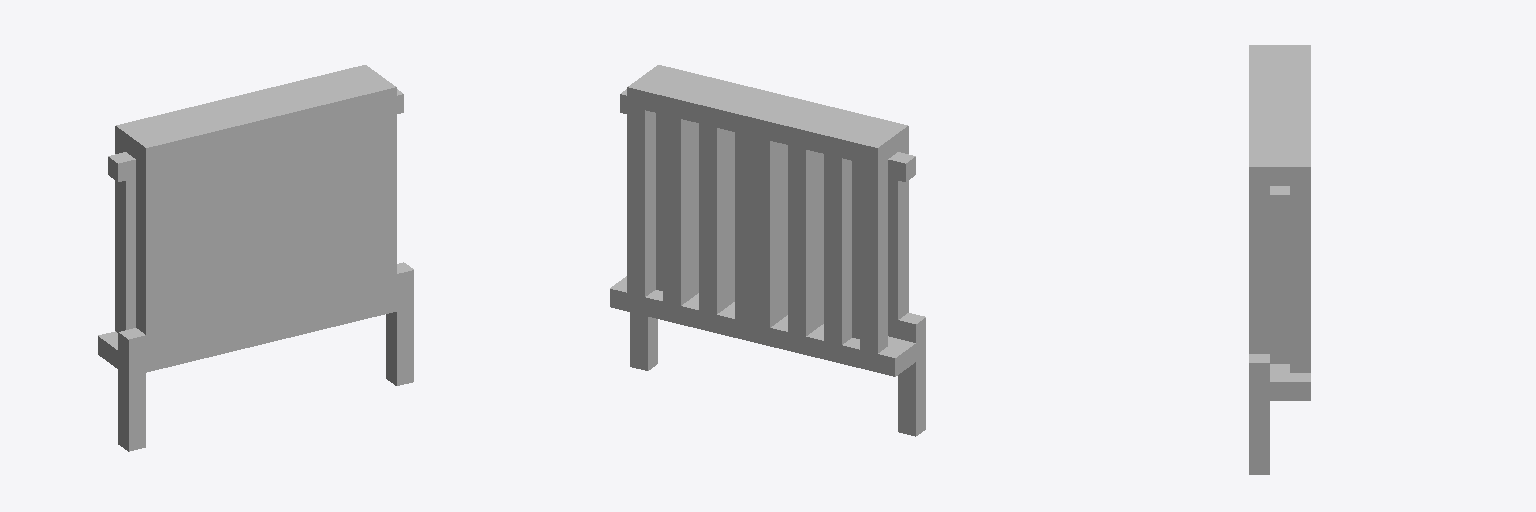
File: Radiator.obj
The picture shows the model from 3 angles: view 1: azimuth 30°, elevation 25°; view 2: azimuth 150°, elevation 25°; view 3: azimuth 270°, elevation 25°; orthographic projection.
Parts seen in each view (by area): view 1: Radiator; view 2: Radiator; view 3: Radiator.
Boxes of the visible parts, x1=… form: Radiator: x1=98, y1=65, x2=413, y2=451; Radiator: x1=610, y1=65, x2=925, y2=436; Radiator: x1=1249, y1=45, x2=1310, y2=474.
Size of the model in its own units: 1.6 by 1.6 by 0.3.